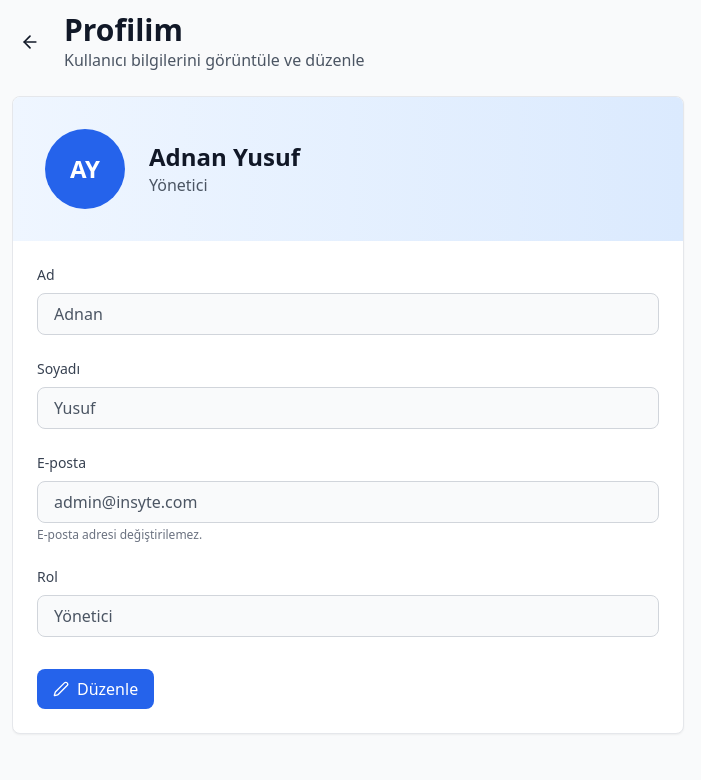
Test: ProfilePage › ad boşken kaydet hata mesajı gösterir
Click the button "Düzenle" at (96, 689), box [37, 669, 154, 709]
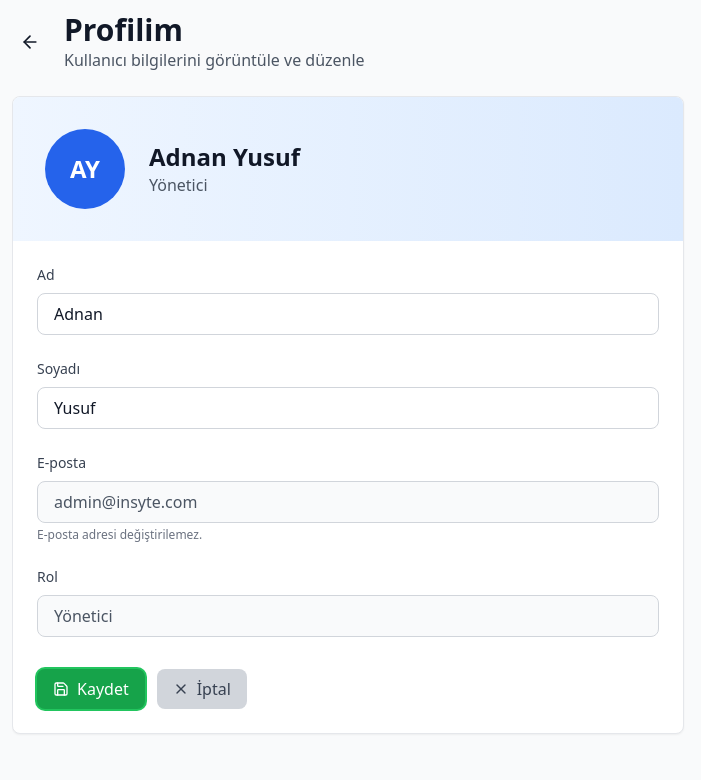
Clear the field showing "Adnan" at (348, 314), box [37, 293, 659, 335]
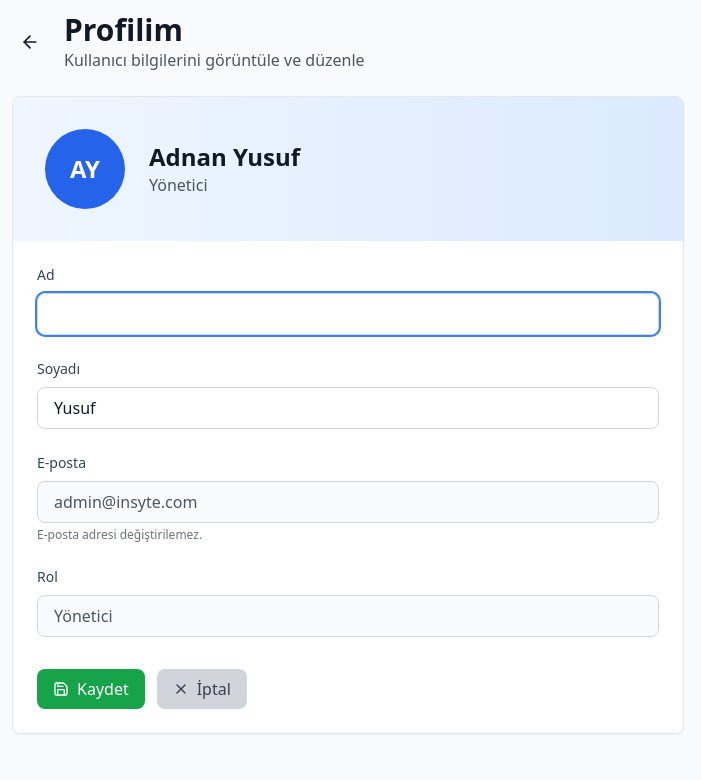
Click the button "Kaydet" at (91, 689), box [37, 669, 145, 709]
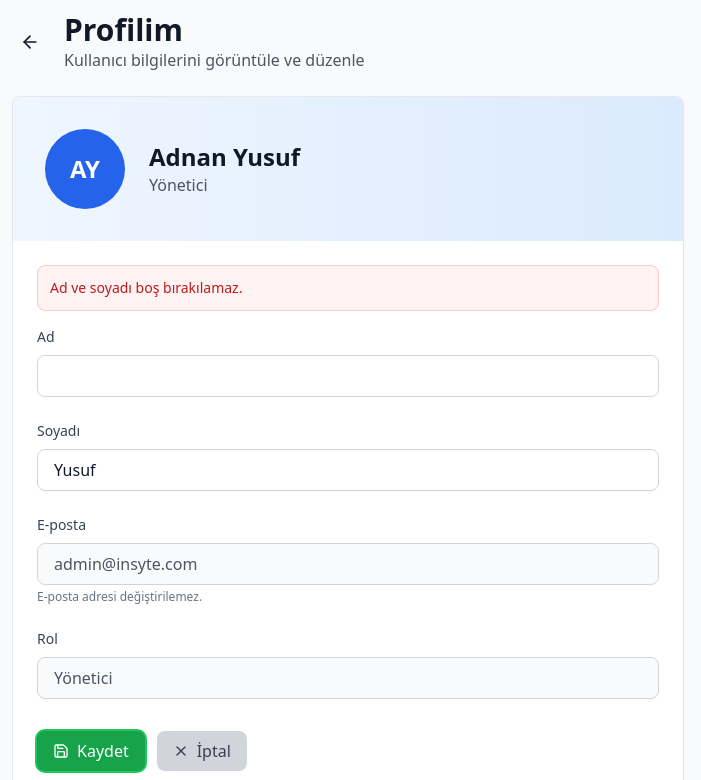
Expected: the text "Ad ve soyadı boş bırakılamaz." is shown, [37, 265, 659, 311]
